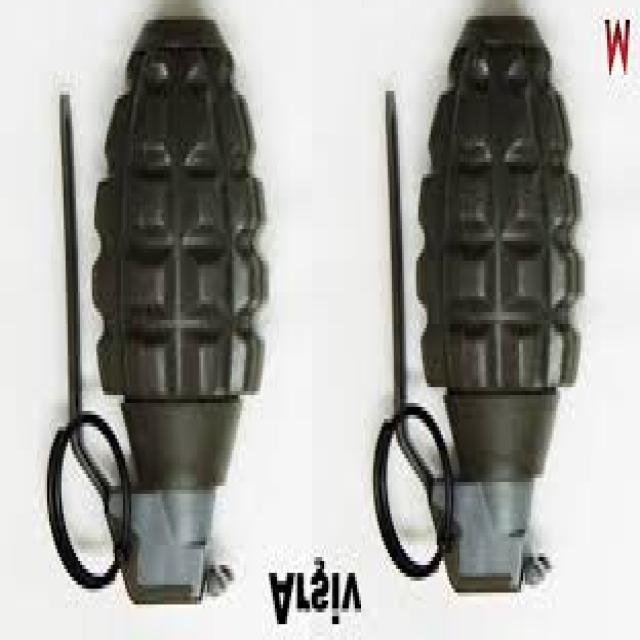grenade: (43, 7, 275, 618)
